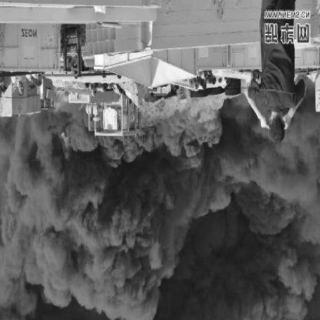Fire: (127, 92, 233, 138)
